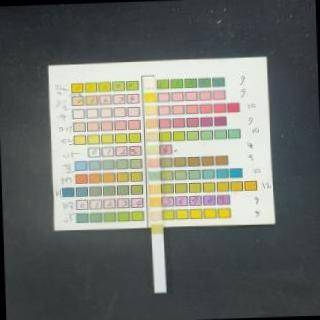mark: (144, 104, 156, 116), (148, 196, 160, 208), (145, 118, 158, 129), (146, 158, 160, 168), (146, 184, 160, 194), (146, 144, 159, 154), (148, 210, 161, 220), (144, 92, 156, 102), (148, 170, 160, 180), (142, 79, 155, 88), (145, 132, 158, 141), (152, 224, 162, 234)
